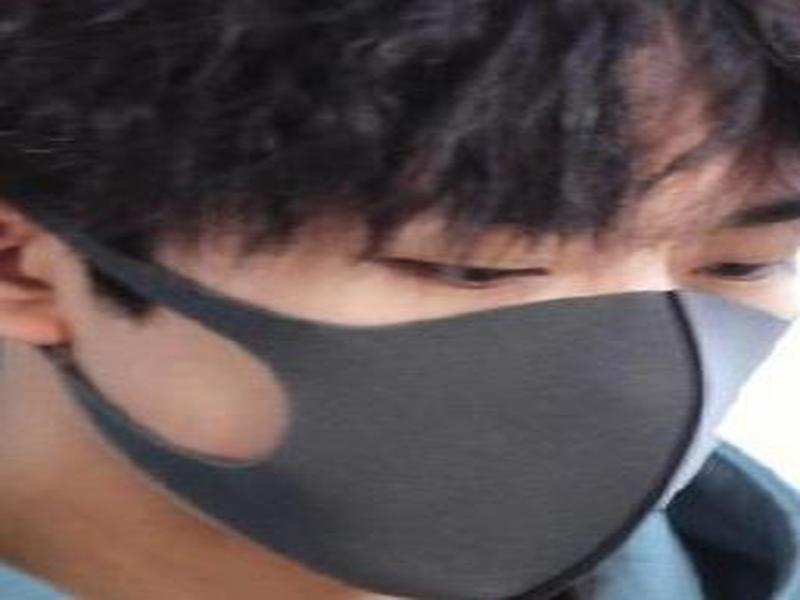with_mask: (1, 26, 795, 597)
